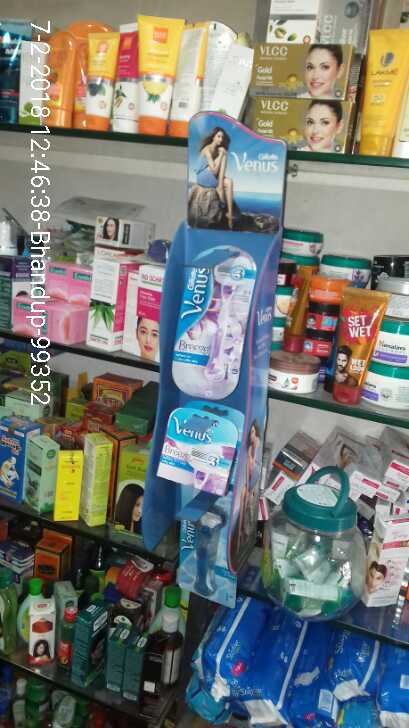beauty: (172, 241, 250, 401), (152, 404, 244, 488), (180, 505, 230, 602)
